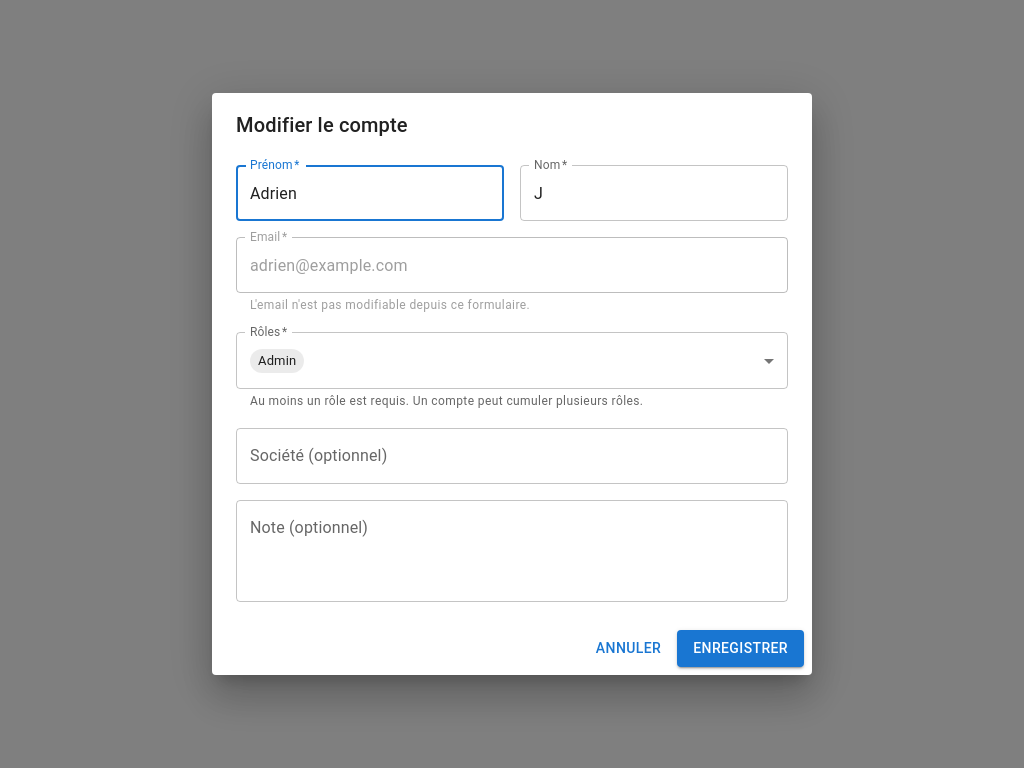
AccountFormDialog › self-protection: when isSelf=true and the user already has admin, the admin option is locked
The width and height of the screenshot is (1024, 768).
// Open the multi-select.
Click the dropdown named "Rôles" at (277, 361), box [250,349,304,373]
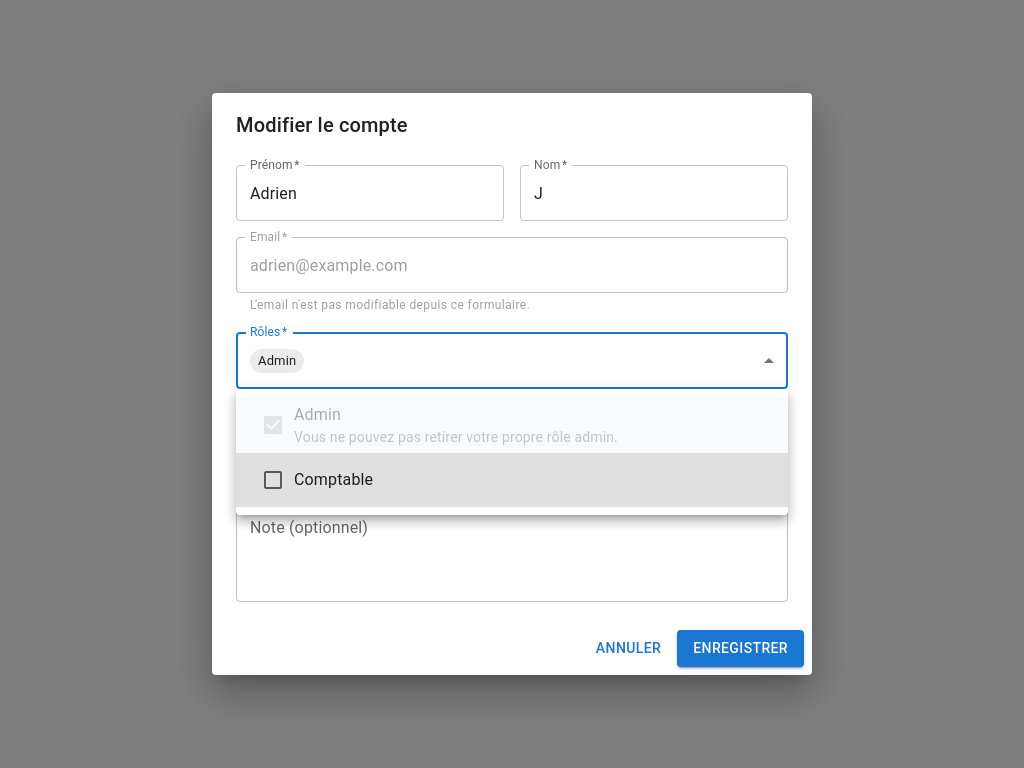
Expected: the text "Vous ne pouvez pas retirer votre propre rôle admin." is shown, [294,429,618,445]
